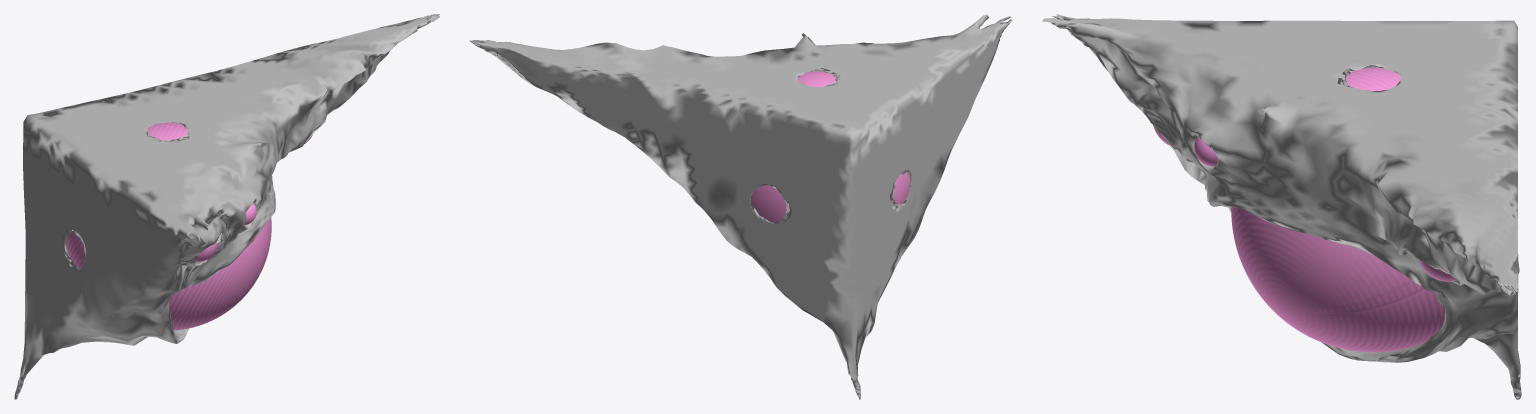
The model's file is Eyes_corner.fbx.
3 renders of one model, left to right at view 1: azimuth 30°, elevation 25°; view 2: azimuth 150°, elevation 25°; view 3: azimuth 270°, elevation 25°, orthographic. The views are drawn at different scales.
Visible parts, largest first — view 1: cornera_low, balls_low; view 2: cornera_low, balls_low; view 3: cornera_low, balls_low.
Boxes of the visible parts, x1=… form: cornera_low: x1=14, y1=14, x2=439, y2=399; balls_low: x1=66, y1=122, x2=312, y2=330; cornera_low: x1=470, y1=14, x2=1012, y2=399; balls_low: x1=751, y1=71, x2=909, y2=222; cornera_low: x1=1042, y1=14, x2=1521, y2=399; balls_low: x1=1153, y1=67, x2=1457, y2=352.
Size of the model in its own units: 281 by 184 by 202.
